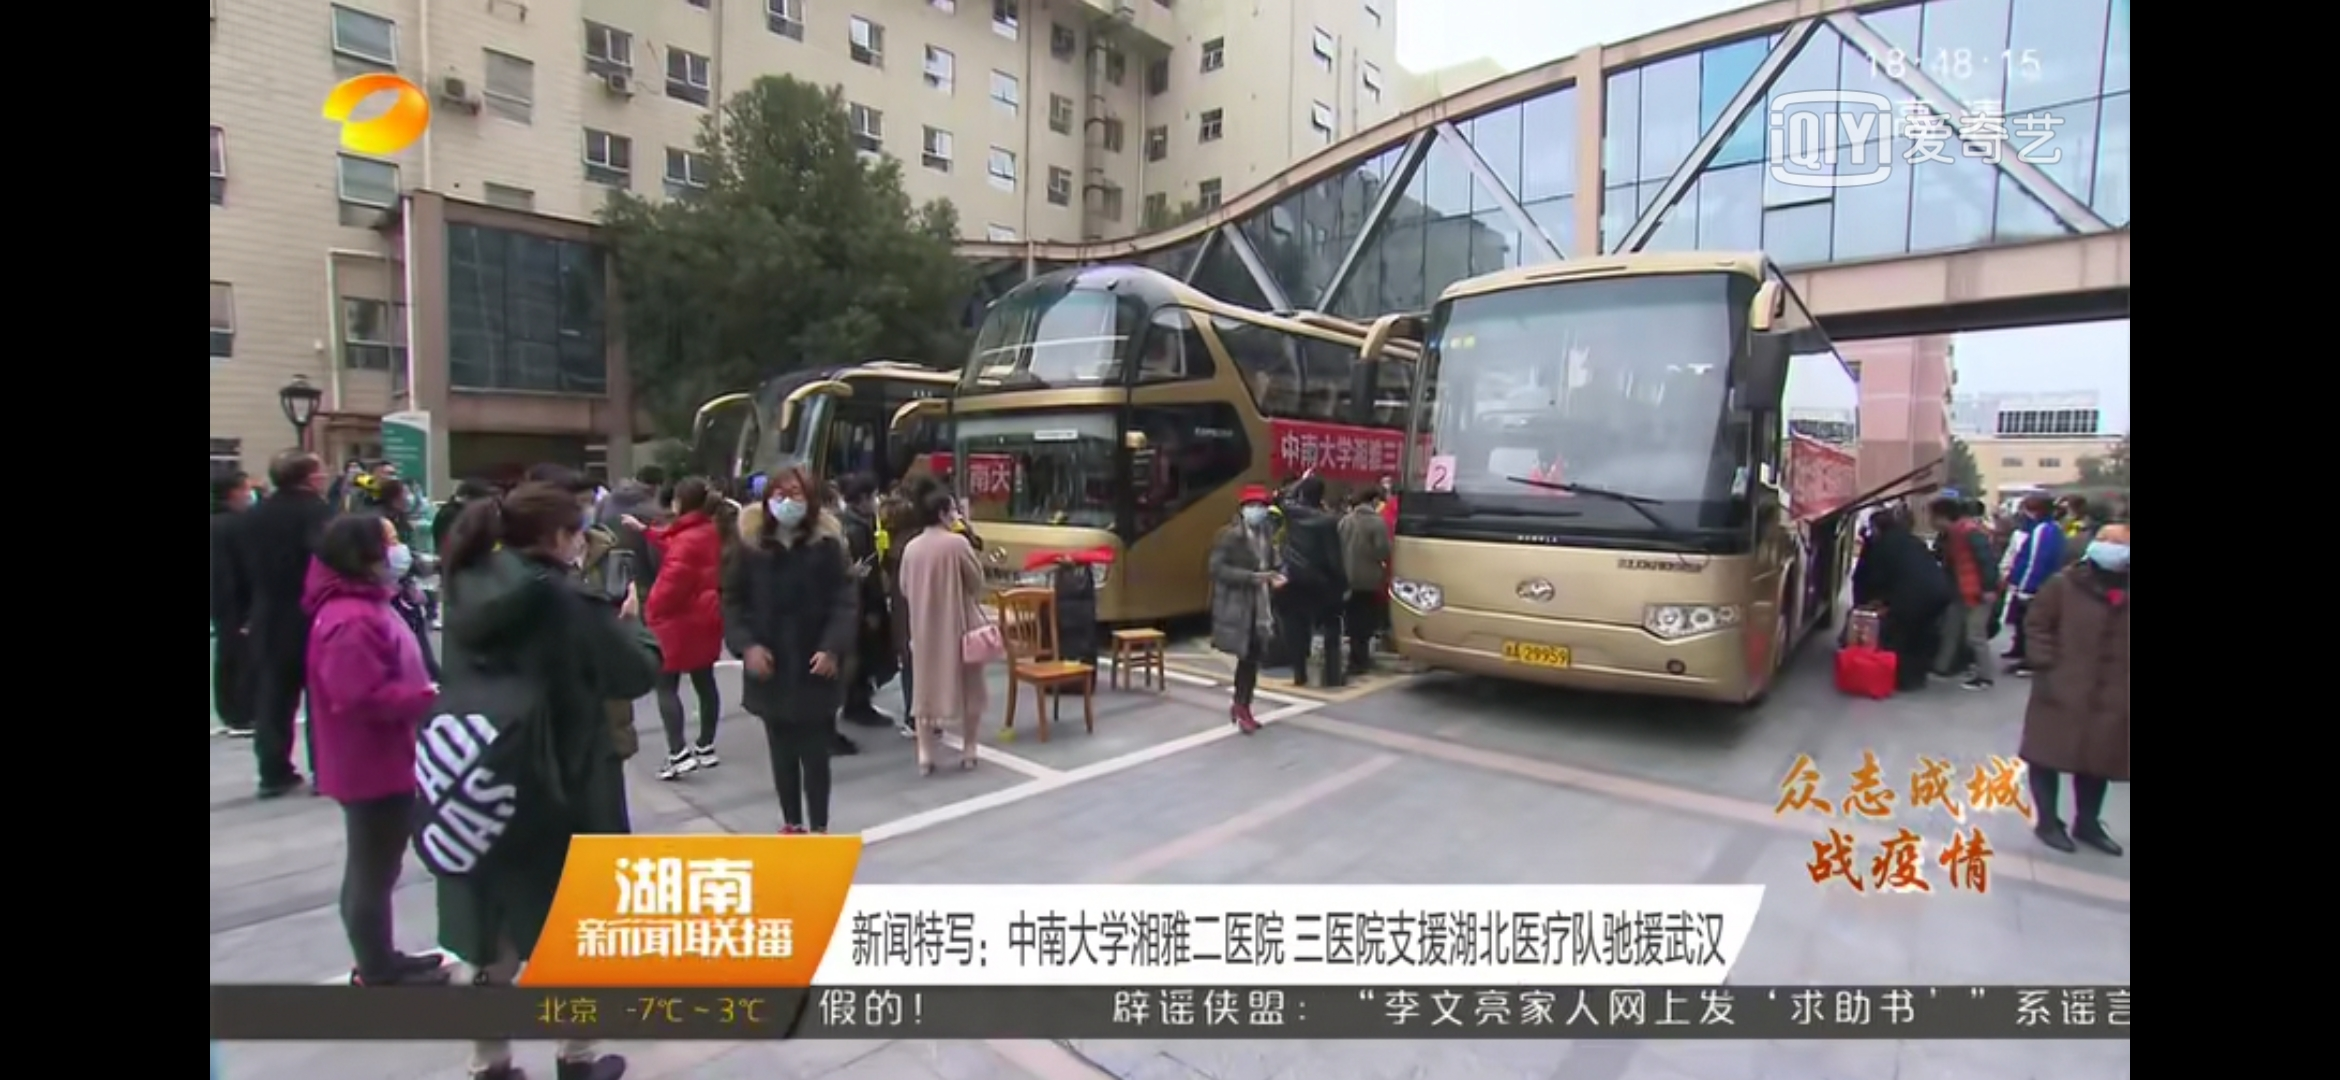correctlyWear: (372, 524, 416, 588), (2086, 524, 2133, 576), (766, 483, 810, 530), (552, 518, 589, 568), (1239, 498, 1270, 530)
